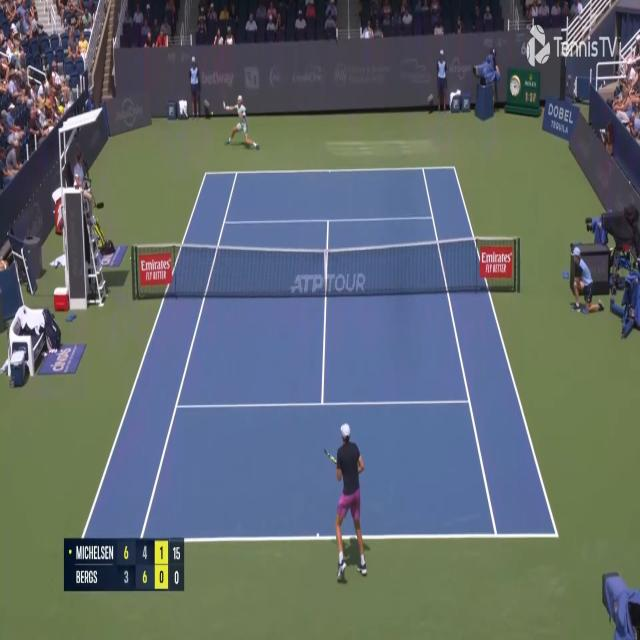tennis-player: (324, 420, 370, 586), (226, 92, 260, 152)
